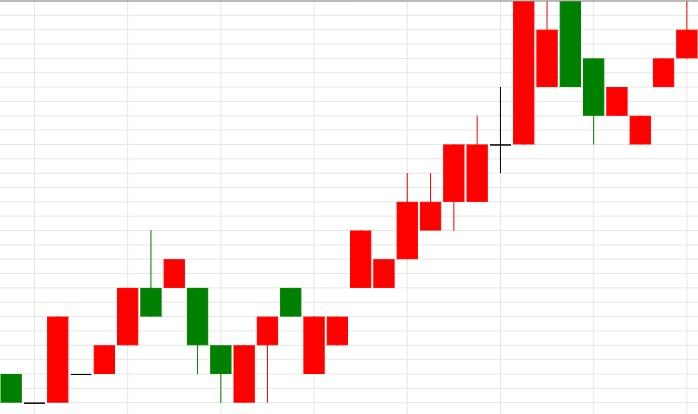bearish_engulfing_fall: (302, 0, 582, 374)
bullish_engulfing_rise: (163, 258, 256, 404)
three_white_soldiers_rise: (559, 0, 698, 145)
